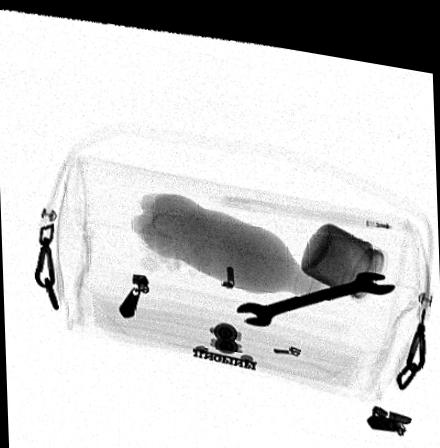Wrench: (234, 256, 395, 316)
